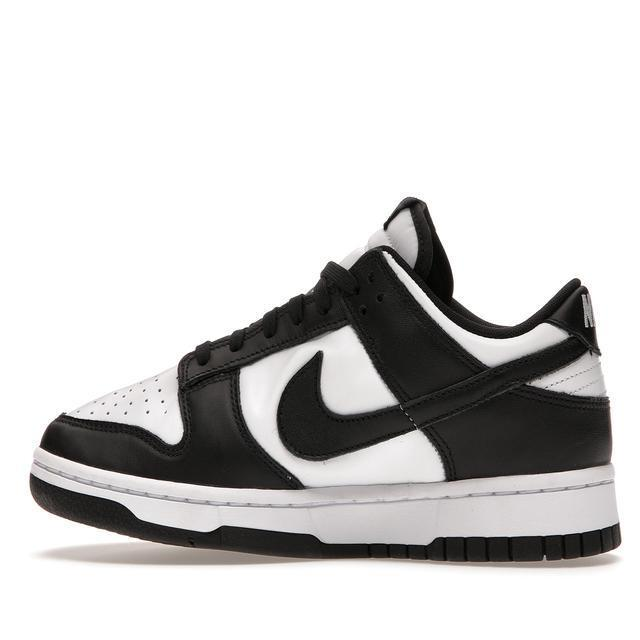J1_InsoleChar: (27, 194, 623, 565)
J1_StitchPattern: (28, 453, 622, 563), (60, 259, 359, 440), (239, 334, 607, 477), (177, 260, 358, 387), (365, 522, 622, 563), (59, 364, 184, 444), (218, 288, 338, 354), (84, 374, 172, 422), (527, 352, 607, 399), (577, 287, 597, 331)
